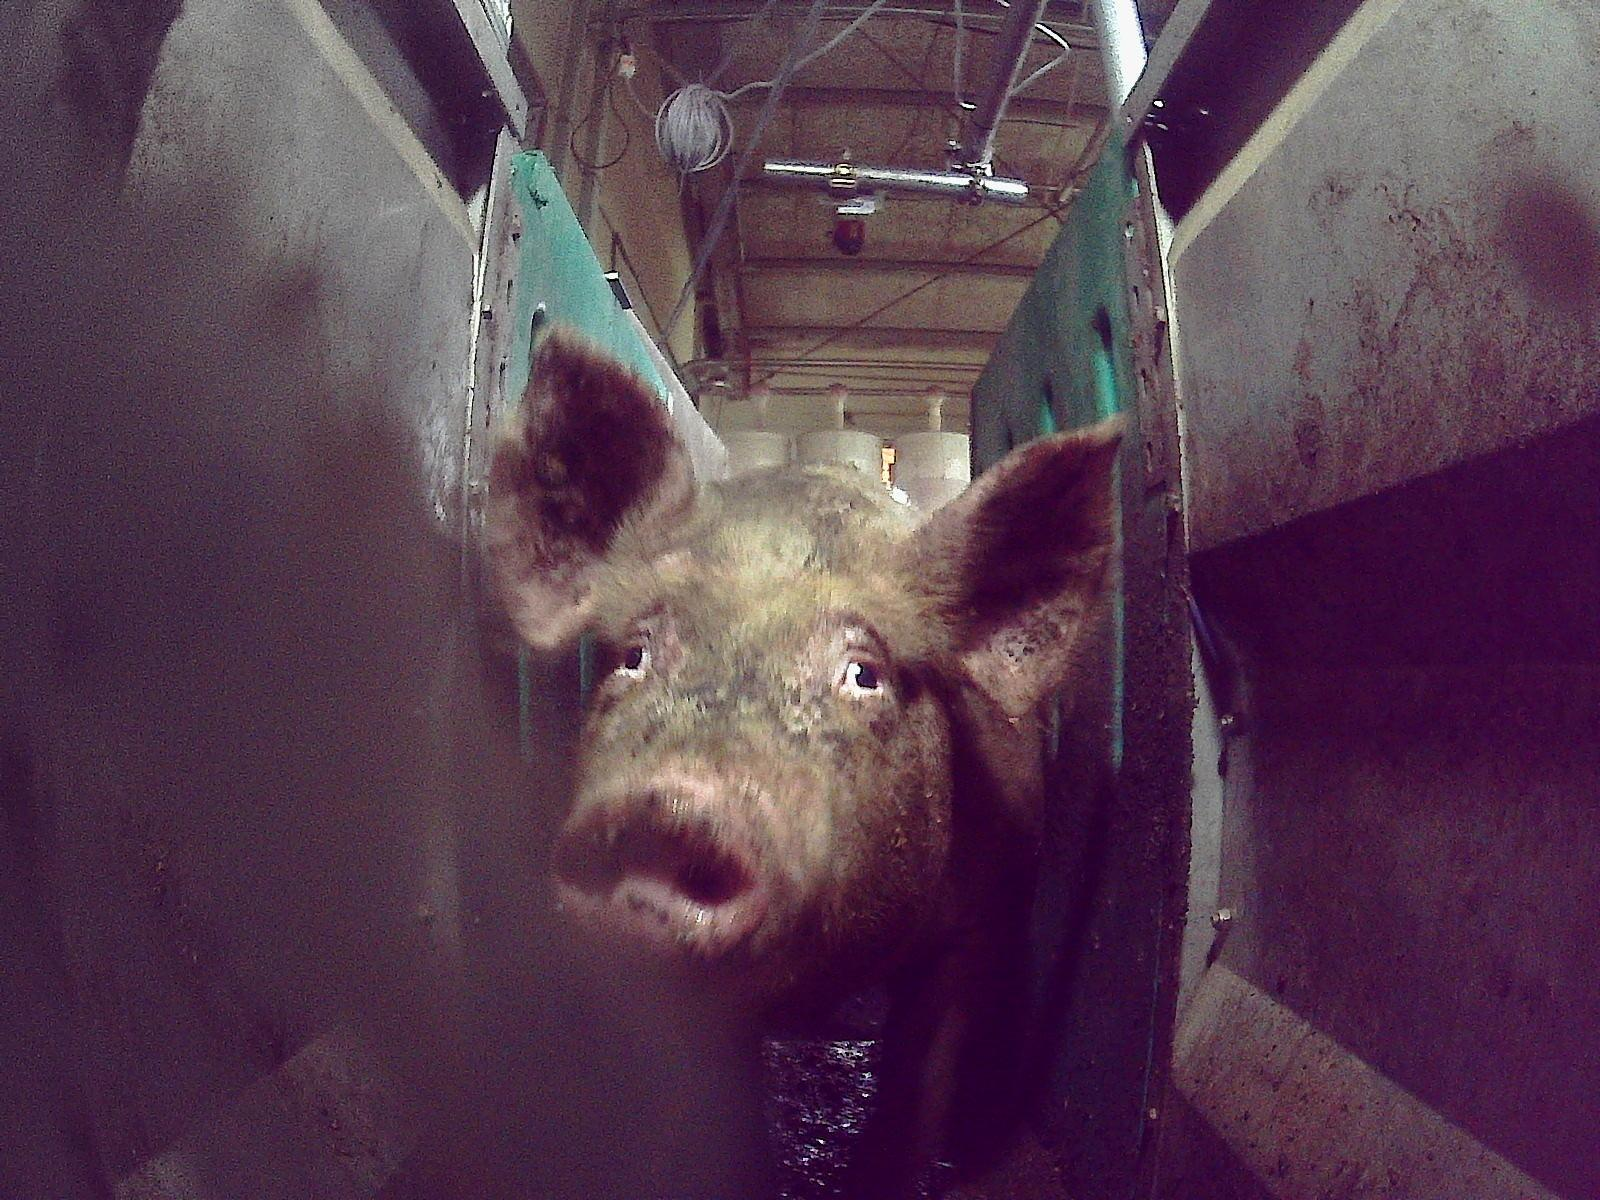Face: (549, 512, 953, 990)
